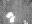person: (6, 10, 12, 17), (22, 18, 28, 24), (9, 18, 15, 23)
